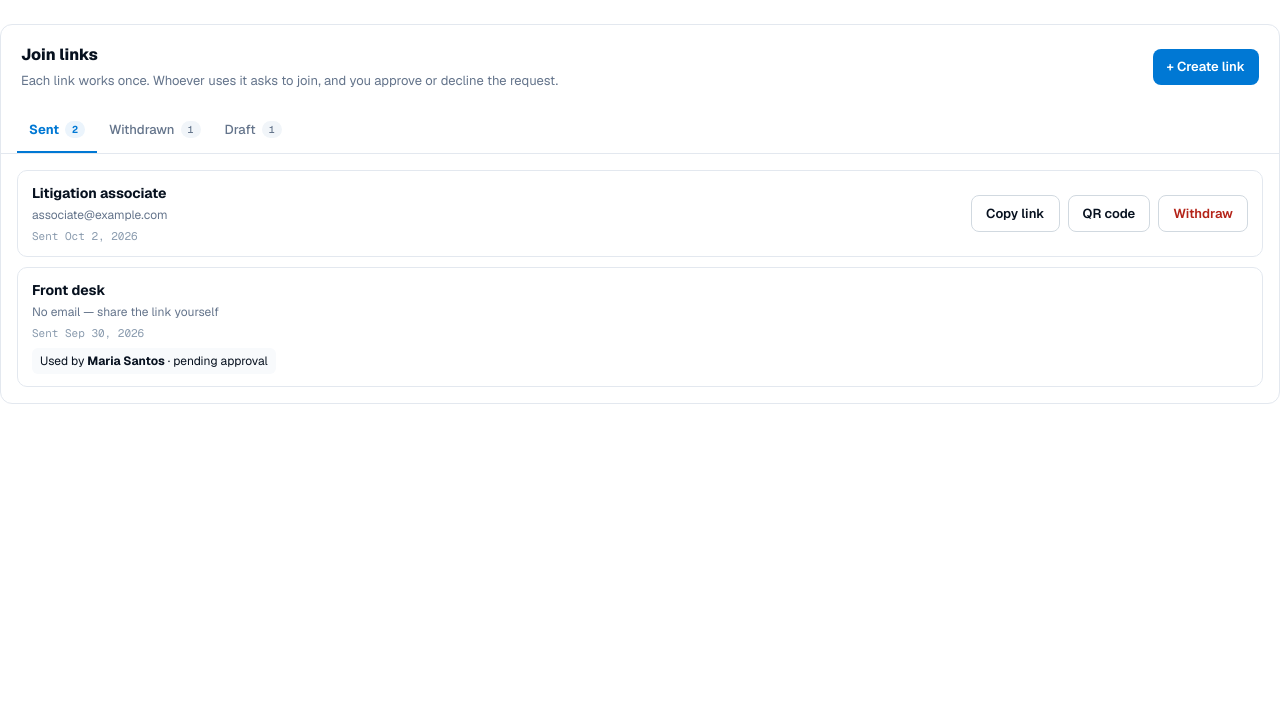
Test case: JoinLinksSection › labels a link with a team and a note, and splits them again when the draft is edited
Check: the list item with test id "join-ticket-jt_demo_sent" is shown, box [17,170,1263,257]
Step 1. Click the button "+ Create link" → (1206, 67), box [1152,49,1259,85]
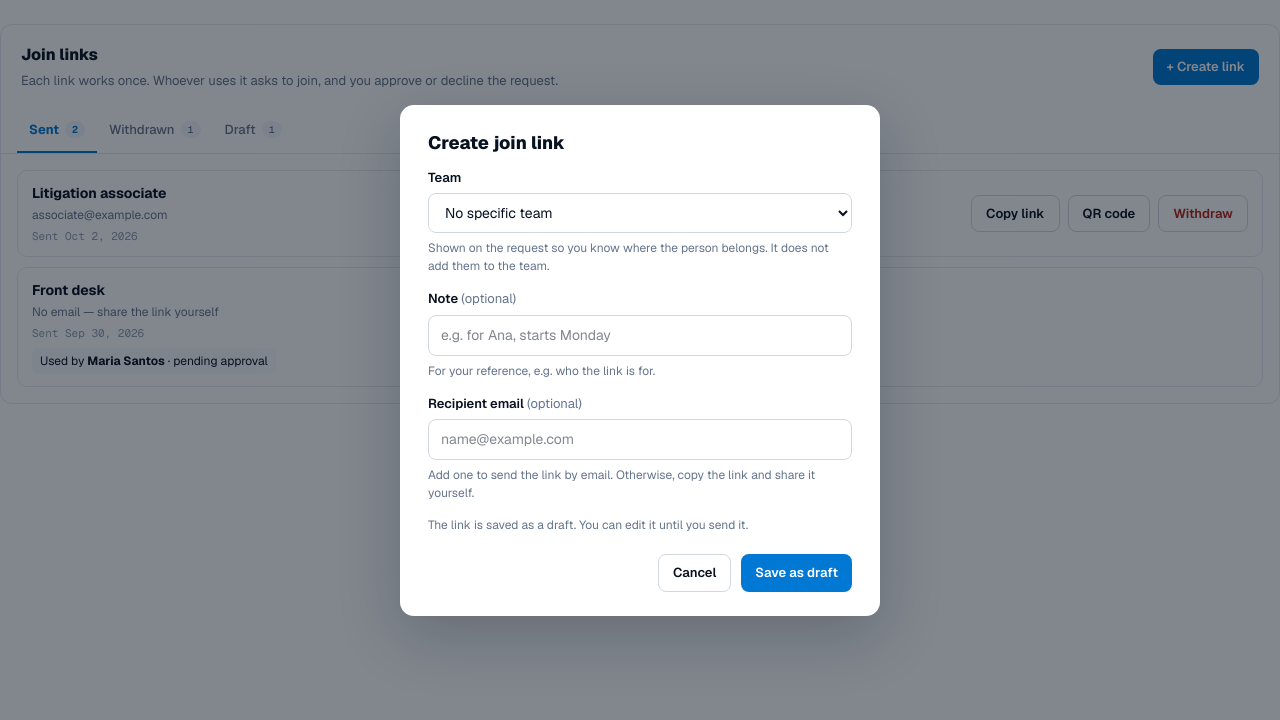
Step 2. Select "Finance" in the dropdown labelled "Team" → (640, 213), box [428,193,852,233]
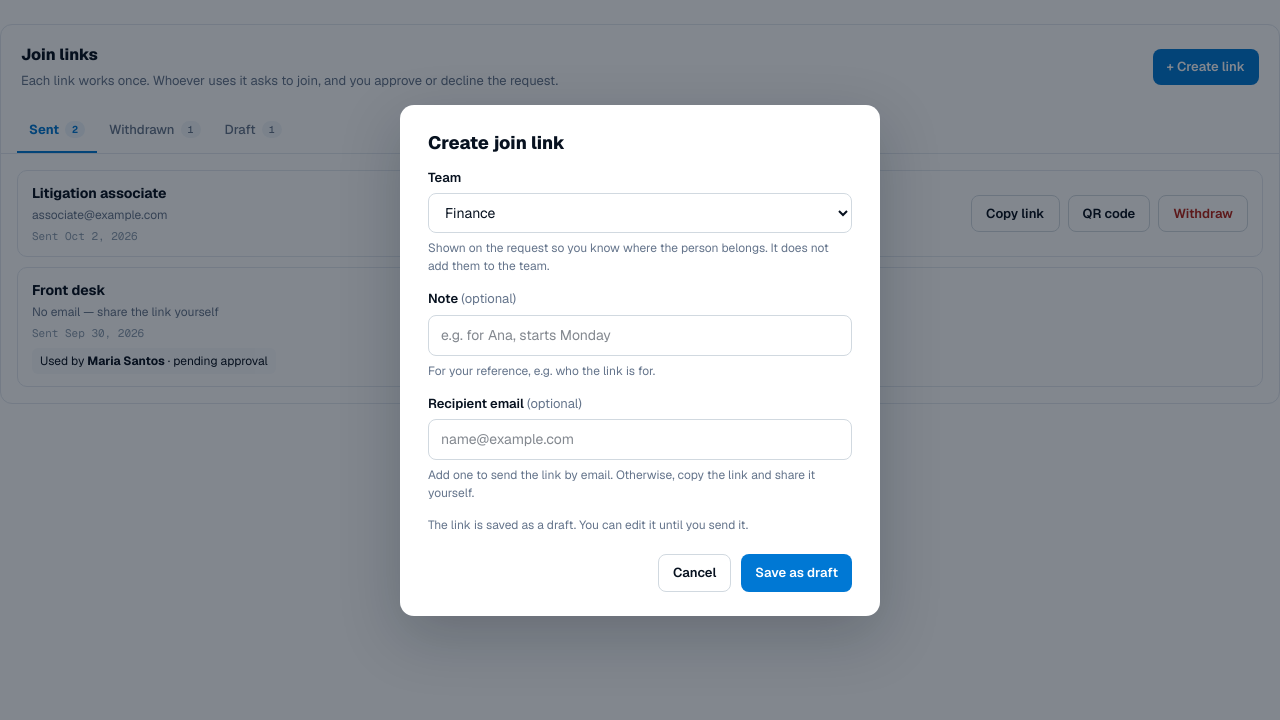
Step 3. Type "for Ana, starts Monday" into the field labelled "Note (optional)" → (640, 335), box [428,314,852,356]
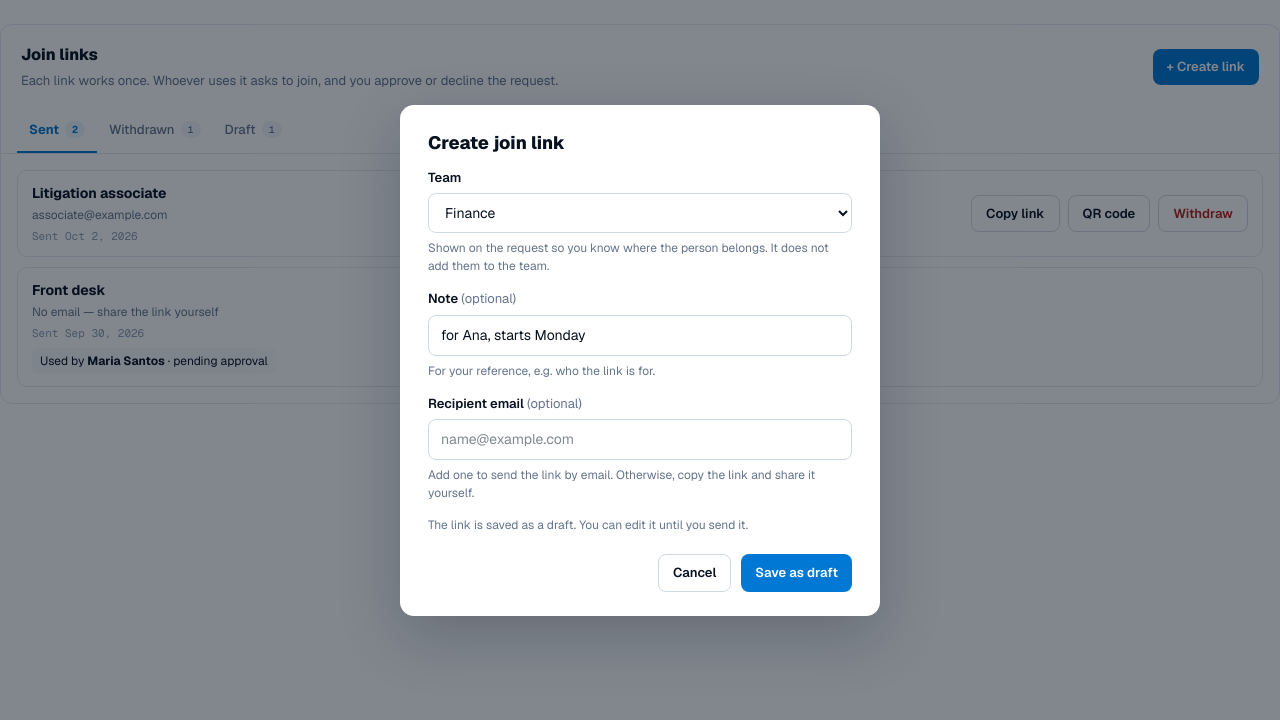
Step 4. Click the button "Save as draft" → (797, 573), box [741,554,852,592]
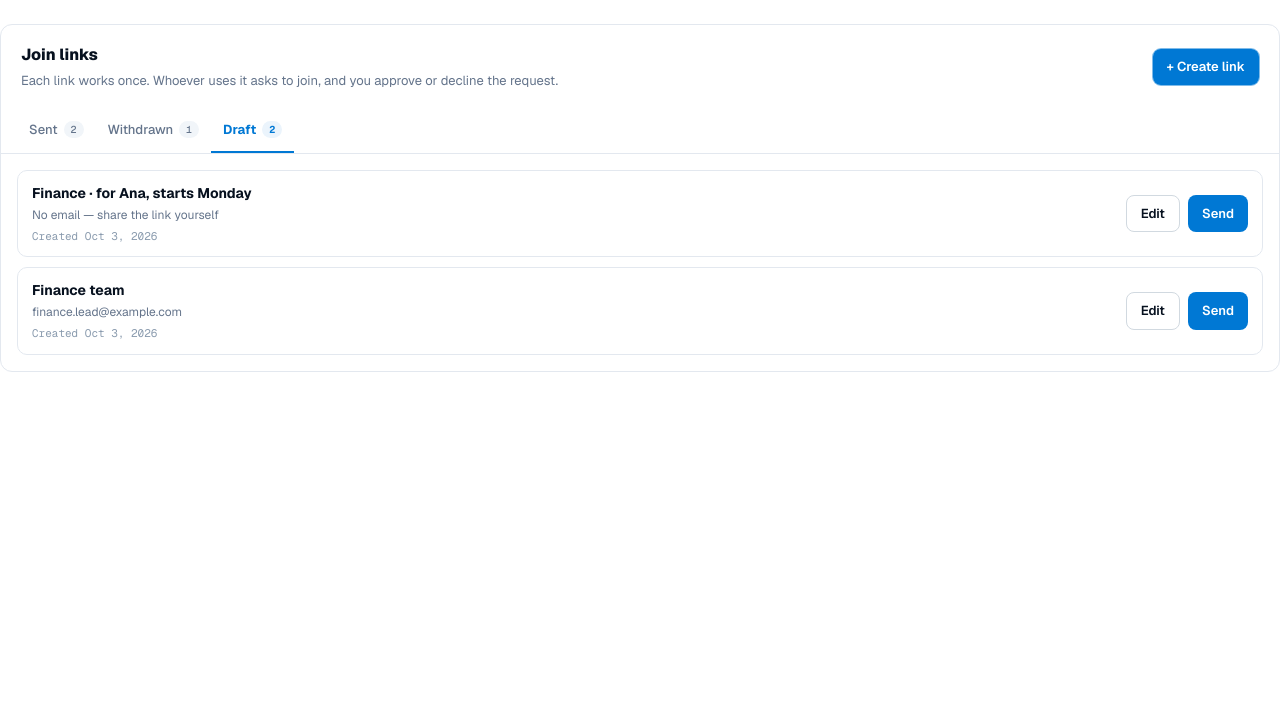
Check: the text "Finance · for Ana, starts Monday" is shown, box [32,184,252,202]
Step 5. Click the button with aria-label "Edit Finance · for Ana, starts Monday" → (1153, 213), box [1126,194,1180,232]
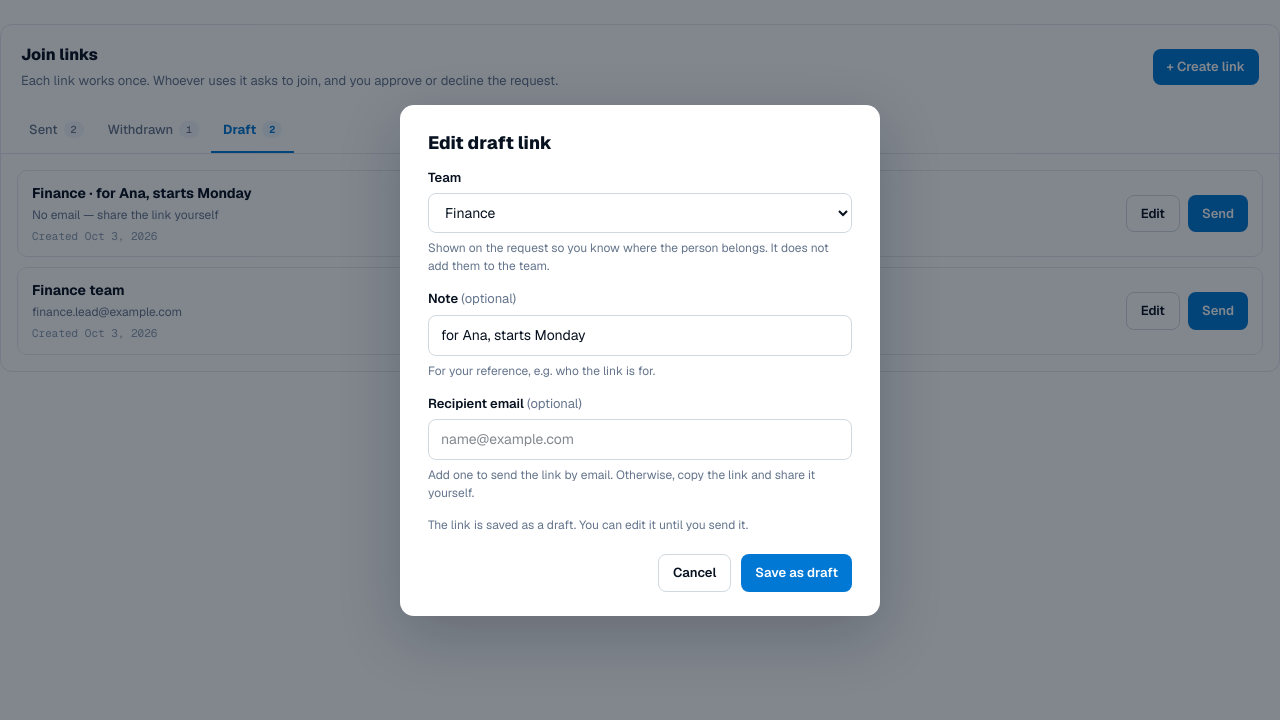
Check: the dropdown labelled "Team" shows "Finance", box [428,193,852,233]
Check: the field labelled "Note (optional)" holds "for Ana, starts Monday", box [428,314,852,356]
